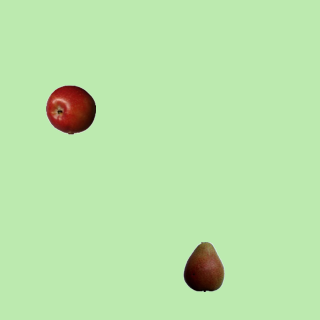Apple Braeburn: (45, 84, 95, 134)
Pear Forelle: (178, 241, 228, 291)
